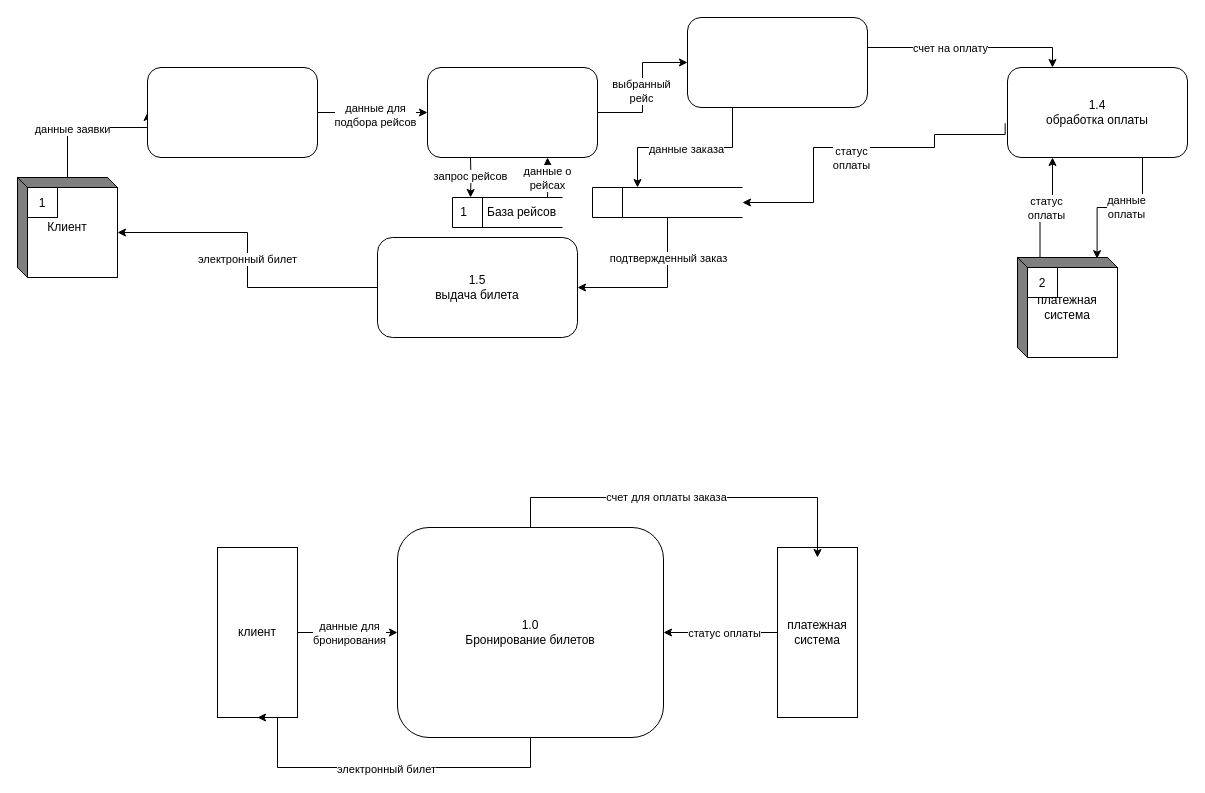
Some shapes in this 1205 by 793 pixel diagram are drawn without their labels. Here are the shapes that lost their labels. From the top down, the box of each, then its label:
(686, 16, 868, 108): 1.3 формирование заказа
(146, 66, 318, 158): 1.1 прием данных от клиента
(426, 66, 598, 158): 1.2 проверка и подбор рейса
(592, 186, 742, 218): 2 База бронирования
